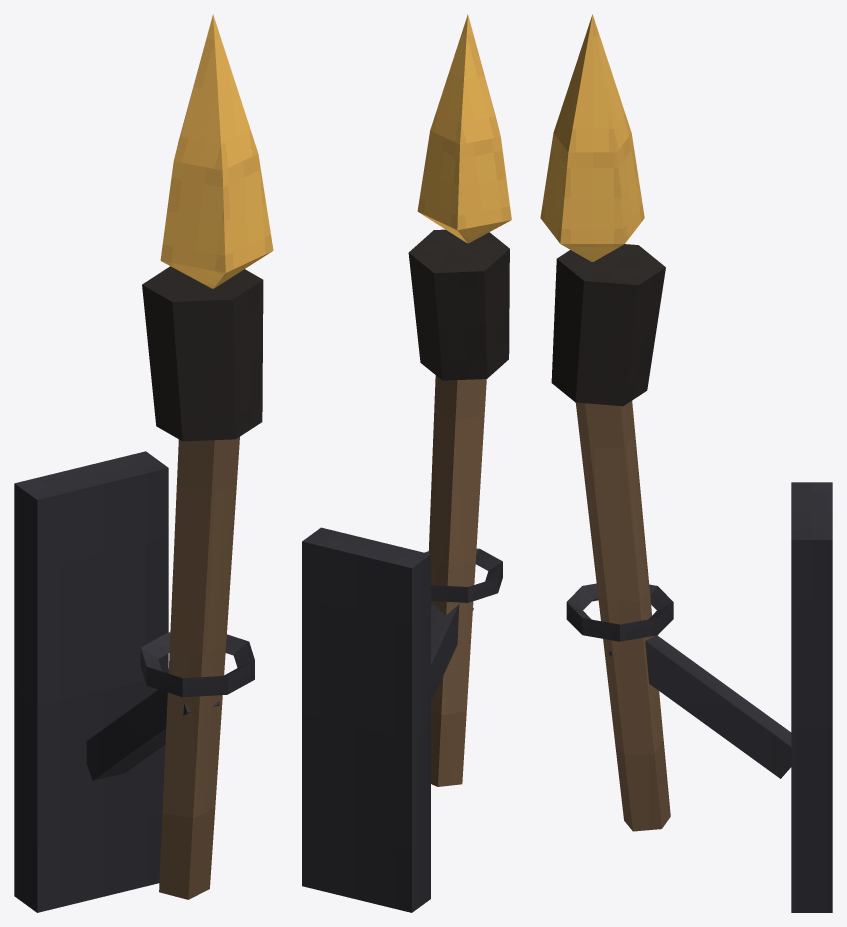
The model's file is wall-torch-sconce.glb.
3 renders of one model, left to right at view 1: azimuth 30°, elevation 25°; view 2: azimuth 150°, elevation 25°; view 3: azimuth 270°, elevation 25°, orthographic. The views are drawn at different scales.
Visible parts, largest first — view 1: sconce.001, torch; view 2: sconce.001, torch; view 3: torch, sconce.001.
Boxes of the visible parts, <box> form: sconce.001: <box>14,451,254,912</box>; torch: <box>142,14,273,899</box>; sconce.001: <box>302,527,502,912</box>; torch: <box>408,14,511,786</box>; torch: <box>540,14,670,831</box>; sconce.001: <box>566,482,832,912</box>.
Size of the model in its own units: 0.1 by 0.7 by 0.213.
Materials: 1 (1 with a texture image).
